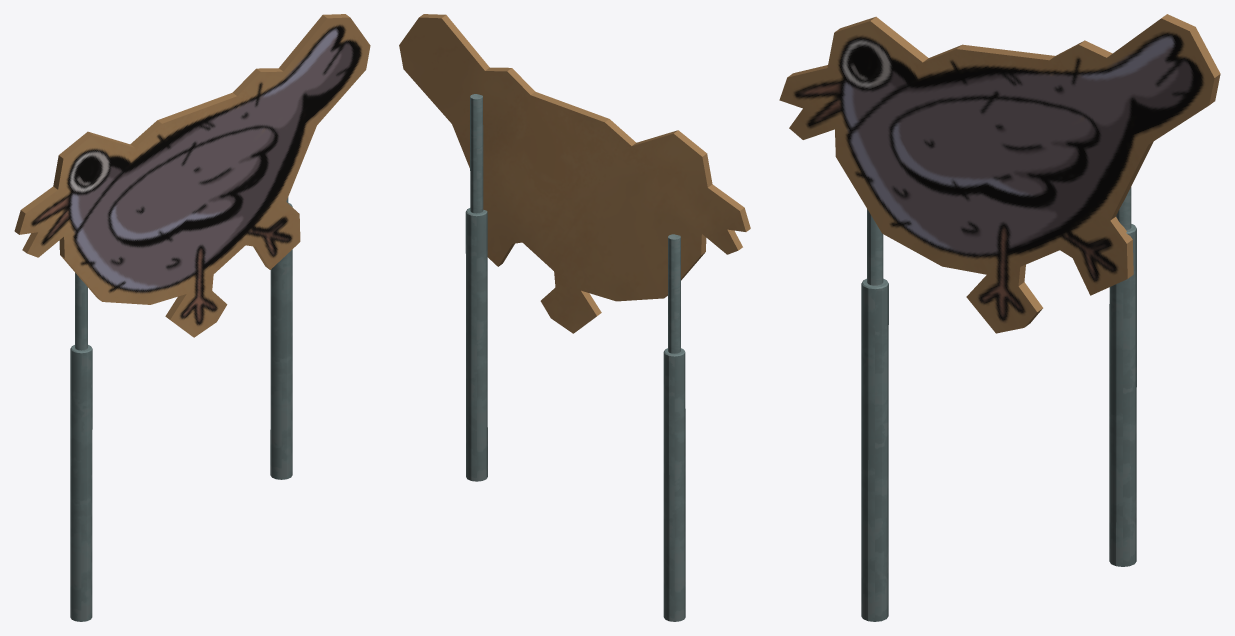
Rendered from SM_Lily.fbx.
The picture shows the model from 3 angles, left to right: view 1: azimuth 30°, elevation 25°; view 2: azimuth 150°, elevation 25°; view 3: azimuth 330°, elevation 25°; orthographic projection. The views are drawn at different scales.
Visible parts, largest first — view 1: Pigeon, P_Front_P, P_Back_P; view 2: Pigeon, P_Front_P, P_Back_P; view 3: Pigeon, P_Front_P, P_Back_P.
Part boxes in pixels (<box>): Pigeon: <box>14,14,370,337</box>; P_Front_P: <box>70,273,92,621</box>; P_Back_P: <box>270,197,292,479</box>; Pigeon: <box>399,14,750,333</box>; P_Front_P: <box>663,234,685,621</box>; P_Back_P: <box>465,94,487,481</box>; Pigeon: <box>779,14,1220,333</box>; P_Front_P: <box>861,209,888,621</box>; P_Back_P: <box>1109,187,1136,566</box>.
Size of the model in its own units: 235 by 350 by 15.15.
